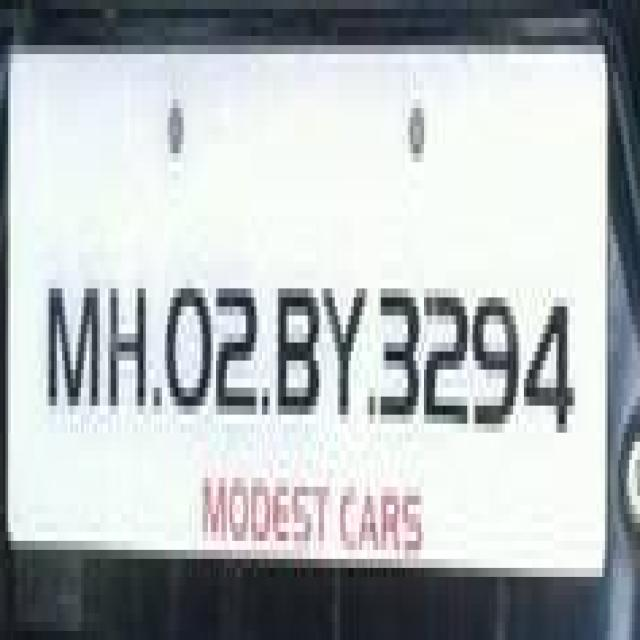license_plate: (0, 18, 610, 586)
